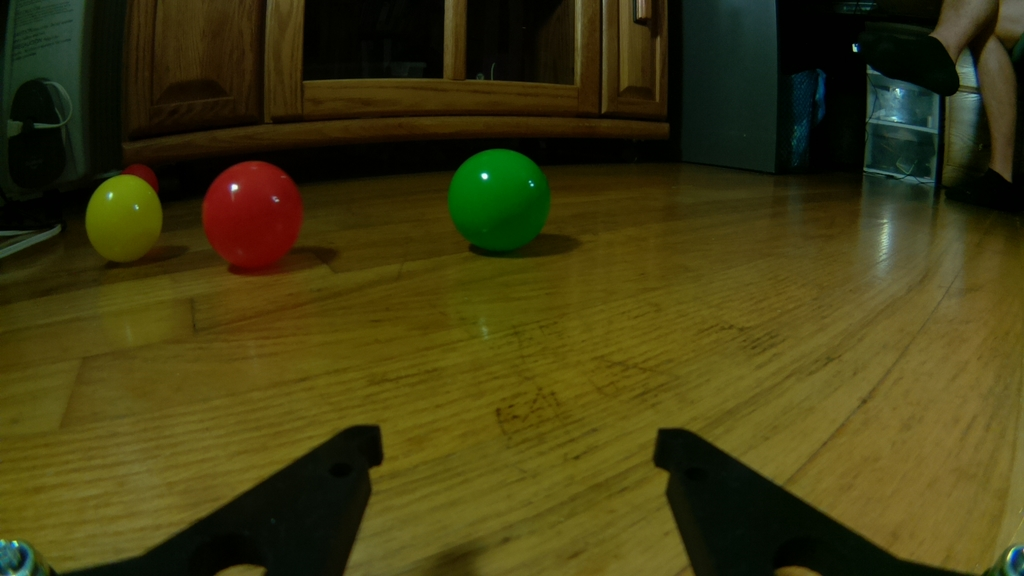ball: (199, 160, 304, 270)
